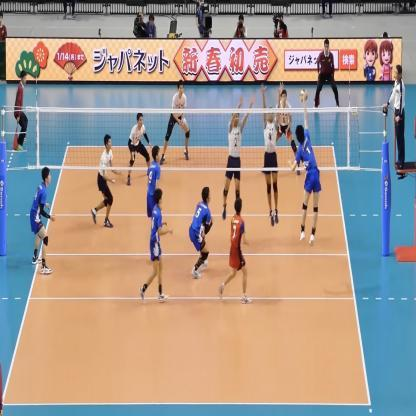spike: (286, 86, 322, 249)
